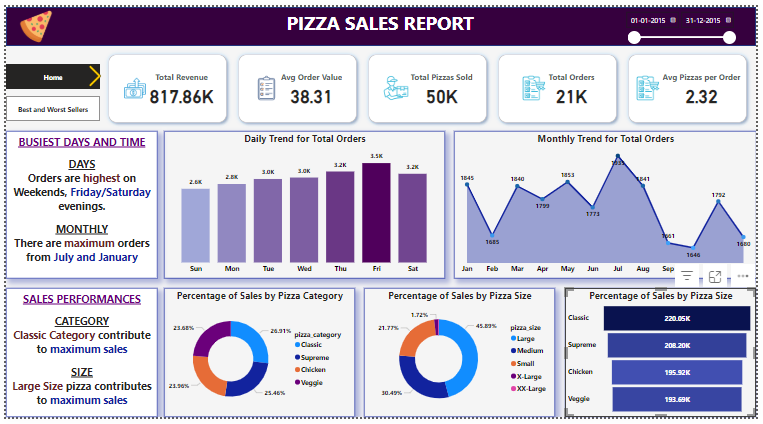

The dashboard page shown, as its layout file describes it:
{"tool":"powerbi","page":{"name":"Home","canvas":[1500,820],"ordinal":0},"visuals":[{"type":"cardVisual","fields":{"Data":["MeasureTable.Total Revenue","MeasureTable.Avg Order Value","MeasureTable.Total Pizzas Sold","MeasureTable.Total Orders","MeasureTable.Avg Pizzas per Order"]},"box":[188,78,1312,170],"z":0},{"type":"shape","box":[0,0,1500,78],"z":1000},{"type":"textbox","box":[556,0,386,78],"z":2000},{"type":"image","box":[22,0,76,78],"z":3000},{"type":"clusteredColumnChart","title":"Daily Trend for Total Orders ","fields":{"Y":["MeasureTable.Total Orders"],"Category":["pizza_sales.Order Day"]},"box":[316.7,248.3,561.7,295],"z":4000},{"type":"areaChart","title":"Monthly Trend for Total Orders ","fields":{"Category":["pizza_sales.Order Month"],"Y":["MeasureTable.Total Orders"]},"box":[895,248.3,605,295],"z":5000},{"type":"donutChart","title":"Percentage of Sales by Pizza Category ","fields":{"Category":["pizza_sales.pizza_category"],"Y":["Sum(pizza_sales.total_price)"]},"box":[316.7,561.7,381.7,258.3],"z":6000},{"type":"donutChart","title":"Percentage of Sales by Pizza Size","fields":{"Y":["Sum(pizza_sales.total_price)"],"Category":["pizza_sales.pizza_size"]},"box":[716.7,561.7,381.7,258.3],"z":7000},{"type":"funnel","title":"Percentage of Sales by Pizza Size","fields":{"Category":["pizza_sales.pizza_category"],"Y":["Sum(pizza_sales.total_price)"]},"box":[1118.3,561.7,381.7,258.3],"z":8000},{"type":"textbox","box":[0,248.3,303.3,295],"z":9000},{"type":"textbox","box":[0,561.7,303.3,258.3],"z":10000},{"type":"slicer","fields":{"Values":["pizza_sales.order_date"]},"box":[1228.3,0,240,78.3],"z":11000},{"type":"pageNavigator","box":[0,113.3,188.3,50],"z":11001},{"type":"pageNavigator","box":[0,178.3,188.3,50],"z":11002},{"type":"image","box":[151.7,106.7,51.7,63.3],"z":11003}]}

Visuals, with their boxes in screenshot pixels (x1, y1, x2, y2), scaled from the page's 1500x820 canvas onto the 763x424 screenshot:
cardVisual - MeasureTable.Total Revenue x MeasureTable.Avg Order Value: 96, 40, 762, 128
shape: 0, 0, 762, 40
textbox: 283, 0, 479, 40
image: 11, 0, 50, 40
"Daily Trend for Total Orders " clusteredColumnChart: 161, 128, 447, 281
"Monthly Trend for Total Orders " areaChart: 455, 128, 762, 281
"Percentage of Sales by Pizza Category " donutChart: 161, 290, 355, 423
"Percentage of Sales by Pizza Size" donutChart: 365, 290, 559, 423
"Percentage of Sales by Pizza Size" funnel: 569, 290, 762, 423
textbox: 0, 128, 154, 281
textbox: 0, 290, 154, 423
slicer - pizza_sales.order_date: 625, 0, 747, 40
pageNavigator: 0, 59, 96, 84
pageNavigator: 0, 92, 96, 118
image: 77, 55, 103, 88
